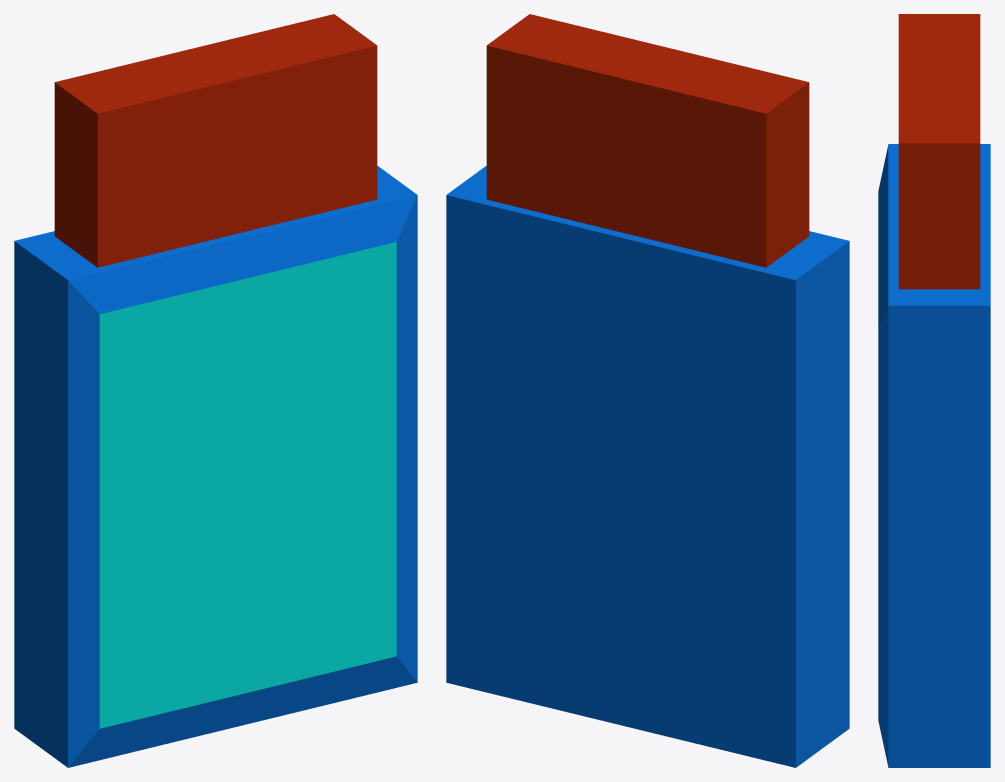
File: PlayerBody.fbx
The picture shows the model from 3 angles, left to right: view 1: azimuth 30°, elevation 25°; view 2: azimuth 150°, elevation 25°; view 3: azimuth 270°, elevation 25°; orthographic projection. The views are drawn at different scales.
Parts seen in each view (by area): view 1: pCube1; view 2: pCube1; view 3: pCube1.
Boxes of the visible parts, x1,y1,x2,y2 form: pCube1: [14, 14, 417, 767]; pCube1: [446, 14, 849, 767]; pCube1: [878, 14, 990, 767].
Bounding box in the file's own units: 0.75 × 1.32 × 0.2197.
